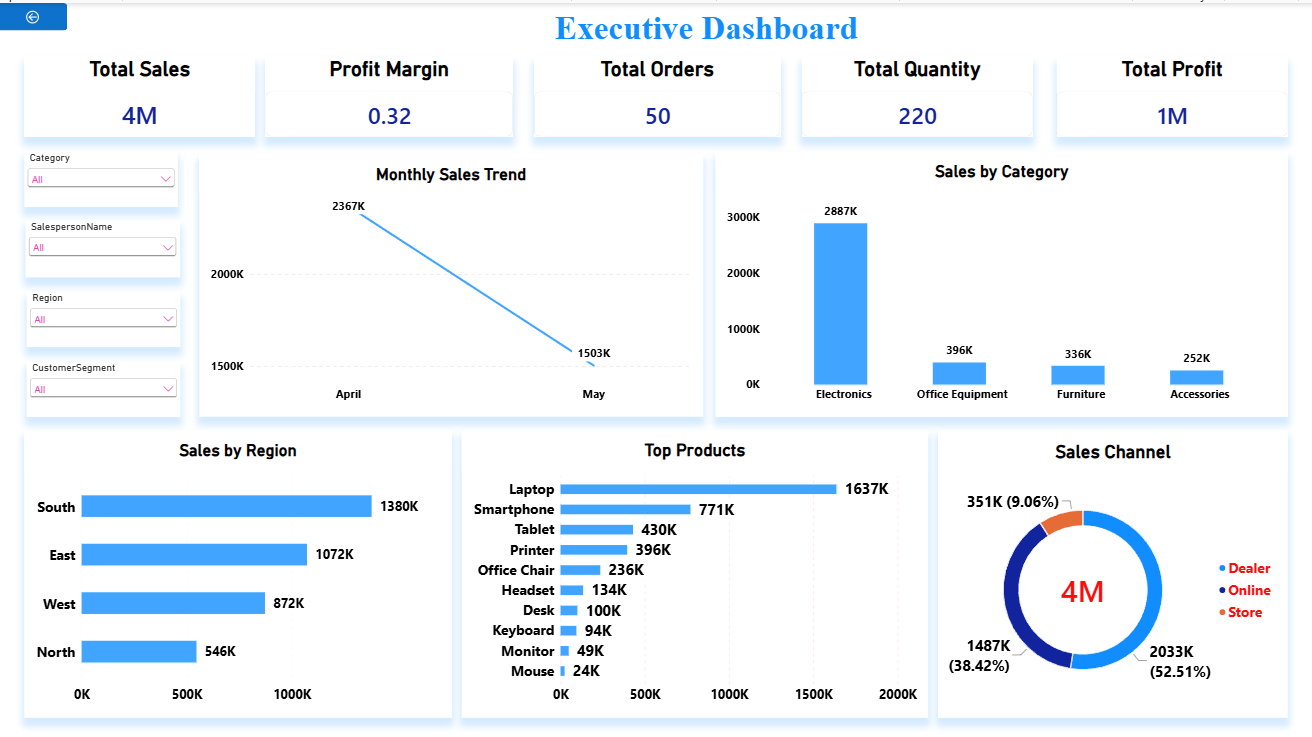

The dashboard page shown, as its layout file describes it:
{"tool":"powerbi","page":{"name":"Page 1 ","canvas":[1920,1080],"ordinal":0},"visuals":[{"type":"textbox","box":[139.4,256.8,280.6,150.4],"z":0},{"type":"textbox","box":[0,407,644,206],"z":1000},{"type":"textbox","box":[152,267,280,150],"z":2000},{"type":"cardVisual","title":"Total Sales","fields":{"Data":["FactSales.Total Sales"]},"box":[38,77.8,334.8,115.8],"z":3000},{"type":"cardVisual","title":"Profit Margin","fields":{"Data":["FactSales.Profit Margin %"]},"box":[387.3,77.8,358.3,115.8],"z":4000},{"type":"cardVisual","title":"Total Orders","fields":{"Data":["FactSales.Total Orders"]},"box":[776.3,77.8,356.5,115.8],"z":5000},{"type":"cardVisual","title":"Total Profit","fields":{"Data":["FactSales.Total Profit"]},"box":[1532.8,77.8,334.8,115.8],"z":6000},{"type":"cardVisual","title":"Total Quantity","fields":{"Data":["FactSales.Total Quantity"]},"box":[1163.6,77.8,334.8,115.8],"z":7000},{"type":"lineChart","title":"Monthly Sales Trend","fields":{"Category":["DimDate.Date.Variation.Date Hierarchy.Month"],"Y":["FactSales.Total Sales"]},"box":[291.4,219,729.3,380],"z":8000},{"type":"clusteredColumnChart","title":" Sales by Category","fields":{"Category":["DimProduct.Category"],"Y":["FactSales.Total Sales"]},"box":[1038.7,215.3,828.8,383.6],"z":9000},{"type":"barChart","title":"Sales by Region","fields":{"Category":["DimCustomer.Region"],"Y":["FactSales.Total Sales"]},"box":[38,618.9,618.9,416.2],"z":10000},{"type":"clusteredBarChart","title":"    Top Products","fields":{"Category":["DimProduct.ProductName.1"],"Y":["FactSales.Total Sales"]},"box":[671.4,618.9,675,416.2],"z":11000},{"type":"donutChart","title":" Sales Channel","fields":{"Category":["FactSales.SalesChannel"],"Y":["FactSales.Total Sales"]},"box":[1360.9,618.9,506.7,416.2],"z":12000},{"type":"slicer","fields":{"Values":["DimProduct.Category"]},"box":[38,216,222.6,79.6],"z":13000},{"type":"slicer","fields":{"Values":["DimSalesperson.Region"]},"box":[42,418,222.6,79.6],"z":14000},{"type":"slicer","fields":{"Values":["DimCustomer.CustomerSegment"]},"box":[42,520,222.6,79.6],"z":15000},{"type":"actionButton","box":[0,0,100,40],"z":16000},{"type":"textbox","box":[706,0,494,78],"z":17000},{"type":"slicer","fields":{"Values":["DimSalesperson.SalespersonName"]},"box":[40,315,223.8,82.5],"z":18000},{"type":"actionButton","box":[0,0,100,40],"z":19000}]}

Visuals, with their boxes in screenshot pixels (x1, y1, x2, y2), scaled from the page's 1920x1080 canvas onto the 1312x737 screenshot:
textbox: bbox=[95, 175, 287, 278]
textbox: bbox=[0, 278, 440, 418]
textbox: bbox=[104, 182, 295, 285]
"Total Sales" cardVisual: bbox=[26, 53, 255, 132]
"Profit Margin" cardVisual: bbox=[265, 53, 509, 132]
"Total Orders" cardVisual: bbox=[530, 53, 774, 132]
"Total Profit" cardVisual: bbox=[1047, 53, 1276, 132]
"Total Quantity" cardVisual: bbox=[795, 53, 1024, 132]
"Monthly Sales Trend" lineChart: bbox=[199, 149, 697, 409]
" Sales by Category" clusteredColumnChart: bbox=[710, 147, 1276, 409]
"Sales by Region" barChart: bbox=[26, 422, 449, 706]
"    Top Products" clusteredBarChart: bbox=[459, 422, 920, 706]
" Sales Channel" donutChart: bbox=[930, 422, 1276, 706]
slicer - DimProduct.Category: bbox=[26, 147, 178, 202]
slicer - DimSalesperson.Region: bbox=[29, 285, 181, 340]
slicer - DimCustomer.CustomerSegment: bbox=[29, 355, 181, 409]
actionButton: bbox=[0, 0, 68, 27]
textbox: bbox=[482, 0, 820, 53]
slicer - DimSalesperson.SalespersonName: bbox=[27, 215, 180, 271]
actionButton: bbox=[0, 0, 68, 27]
